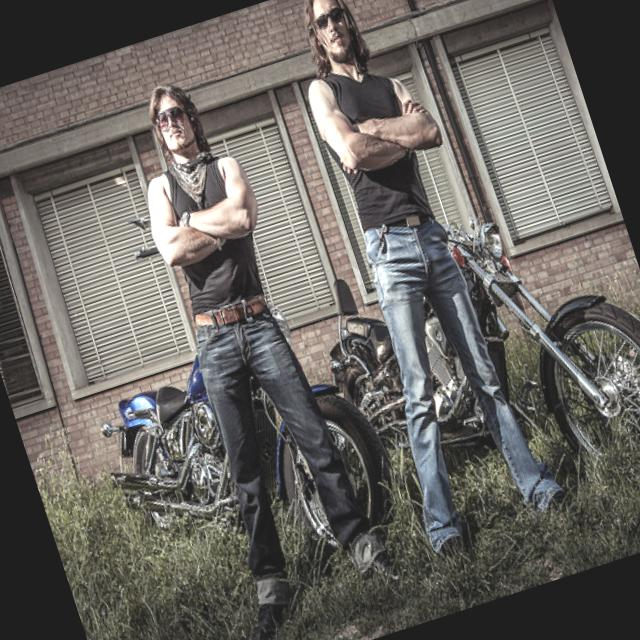Vehicle: (35, 162, 416, 612), (288, 159, 640, 562)
